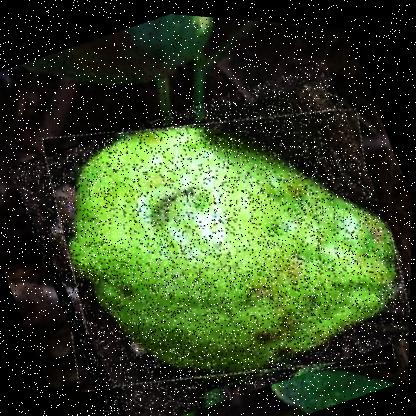guava: (1, 33, 415, 415)
